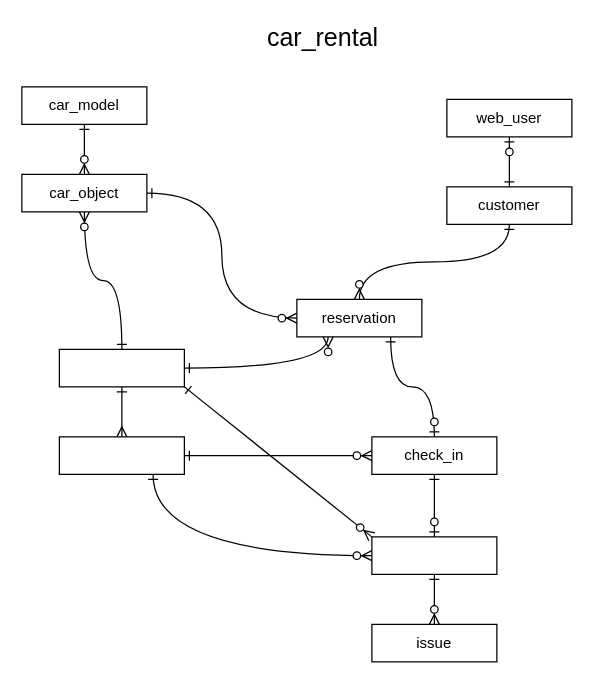
Some shapes in this 594 by 684 pixel diagram are drawn without their labels. Each missing label, with the centre of its shape:
"check_out" goes at (434,555).
"employee" goes at (121,455).
"shop" goes at (121,367).
